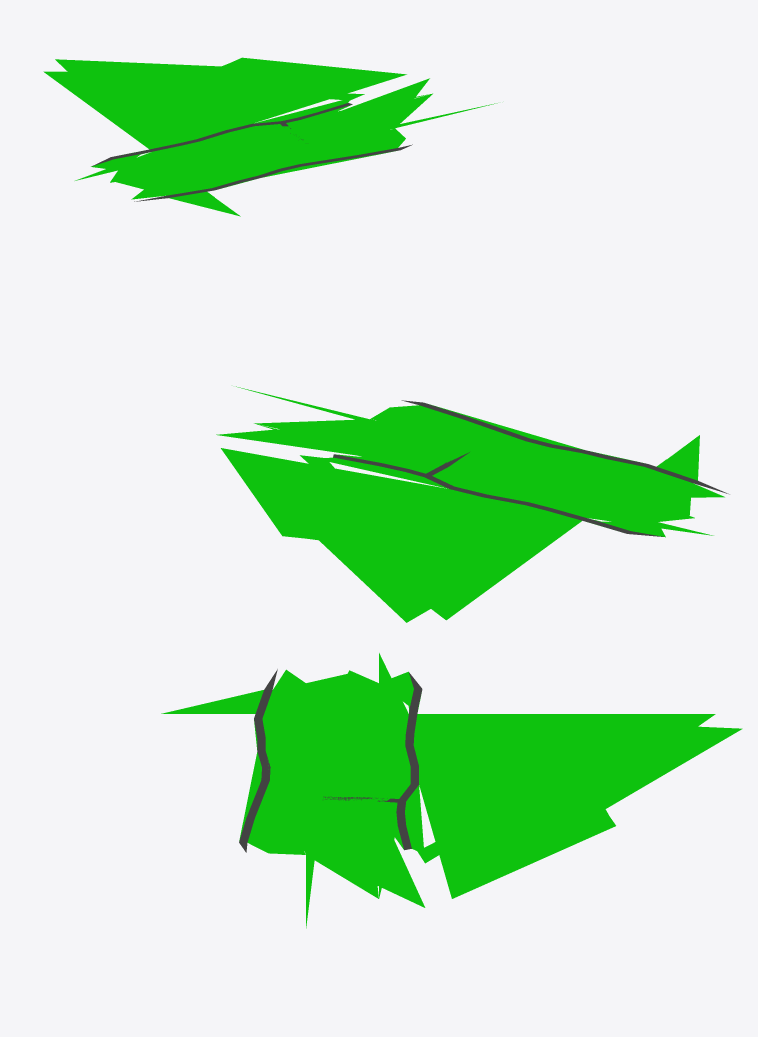
The picture shows the model from 3 angles, top to bottom: view 1: azimuth 30°, elevation 25°; view 2: azimuth 150°, elevation 25°; view 3: azimuth 270°, elevation 25°; orthographic projection. The views are drawn at different scales.
Size of the model in its own units: 360 by 0 by 300.
